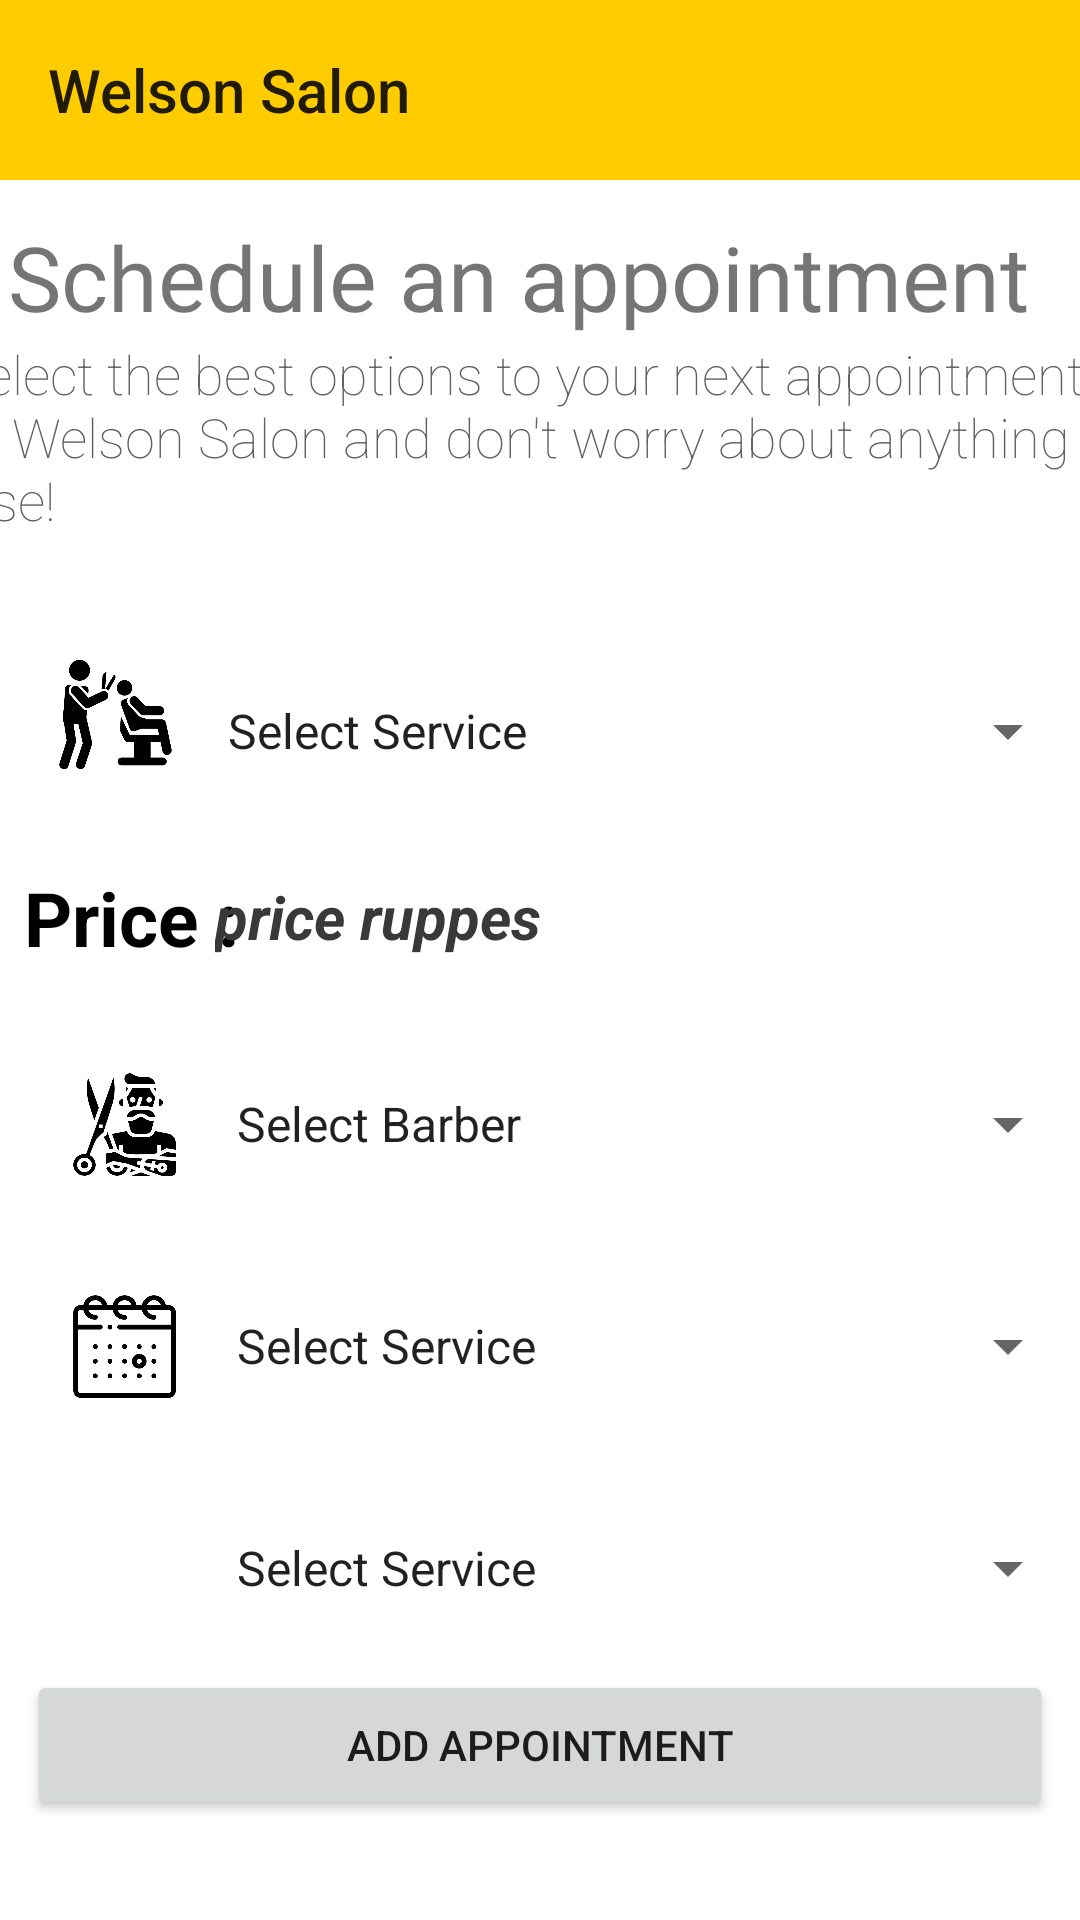

Locate icon controls on the screen. Image size 1080px x 1920px, boxes as Rect(x1, y1, x2, y2).
barber pro: Rect(73, 1073, 176, 1176)
date: Rect(73, 1295, 176, 1398)
